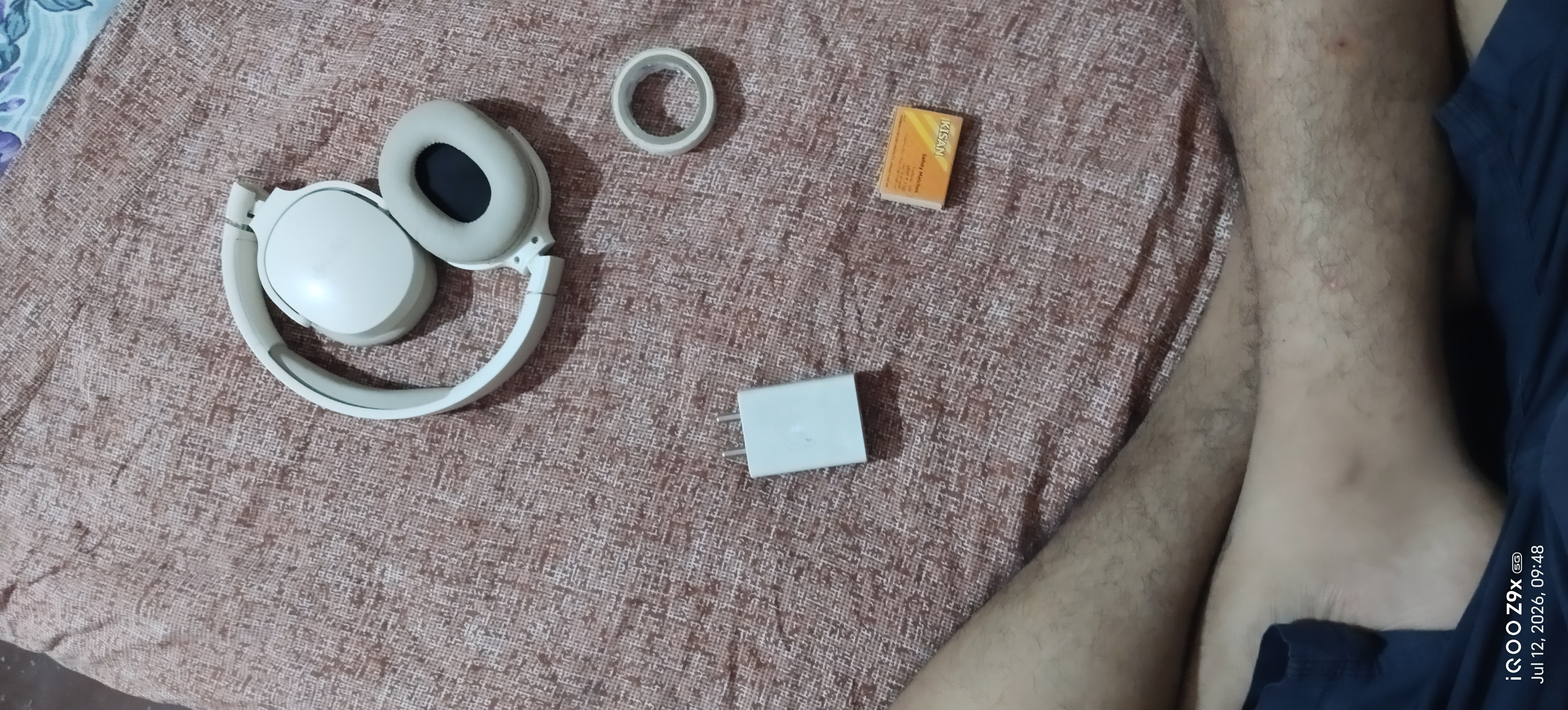charger: (685, 362, 907, 493)
matchbox: (865, 83, 985, 237)
tape_roll: (592, 38, 737, 168)
